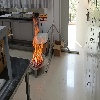fire: (32, 11, 44, 67)
